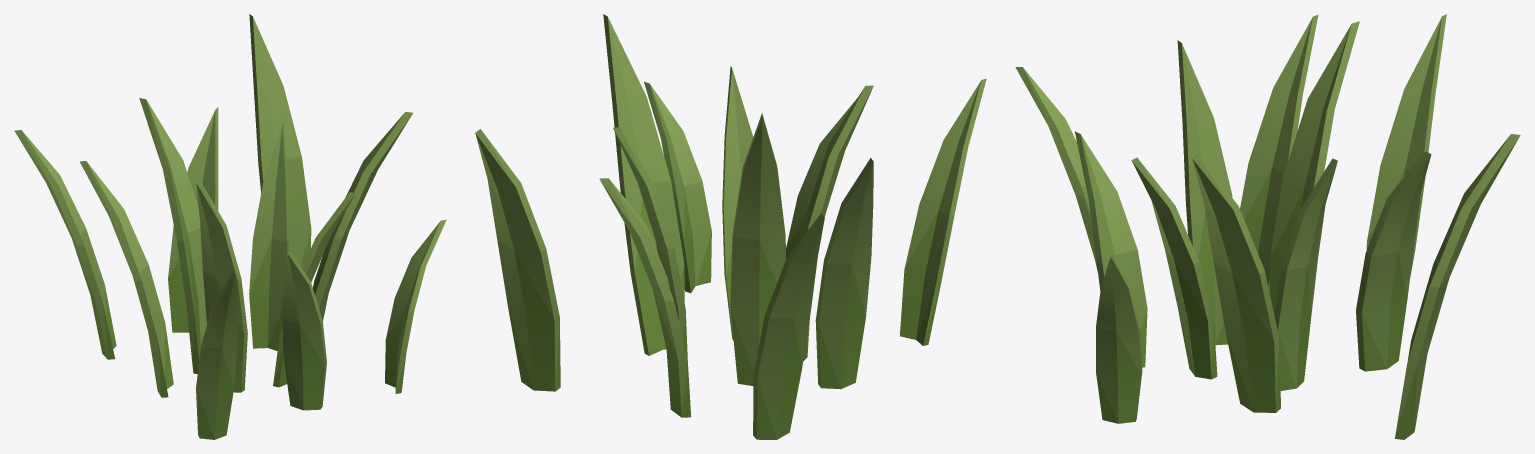
File: itch_kaykit_forest_grass_2_d_color1.glb
The picture shows the model from 3 angles, left to right: view 1: azimuth 30°, elevation 25°; view 2: azimuth 150°, elevation 25°; view 3: azimuth 270°, elevation 25°; orthographic projection. The views are drawn at different scales.
Parts seen in each view (by area): view 1: Grass_2_D_Color1; view 2: Grass_2_D_Color1; view 3: Grass_2_D_Color1.
Part boxes in pixels (bbox=[...]): Grass_2_D_Color1: bbox=[14, 14, 446, 439]; Grass_2_D_Color1: bbox=[475, 14, 986, 439]; Grass_2_D_Color1: bbox=[1015, 14, 1520, 439].
Size of the model in its own units: 0.776 by 0.6571 by 0.96.
